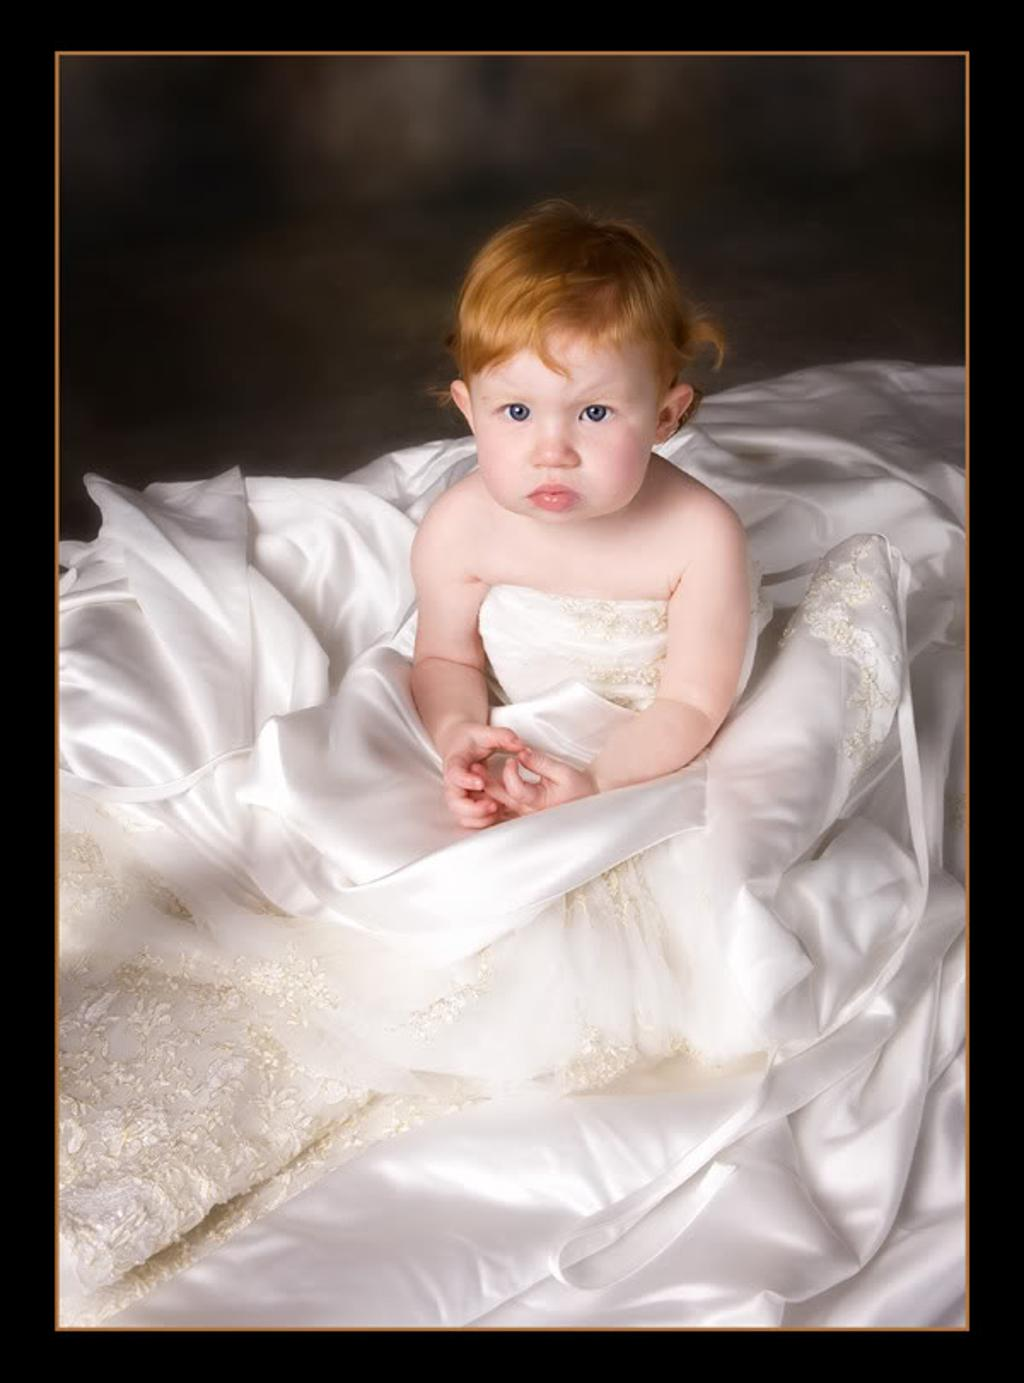face: (476, 281, 657, 524)
